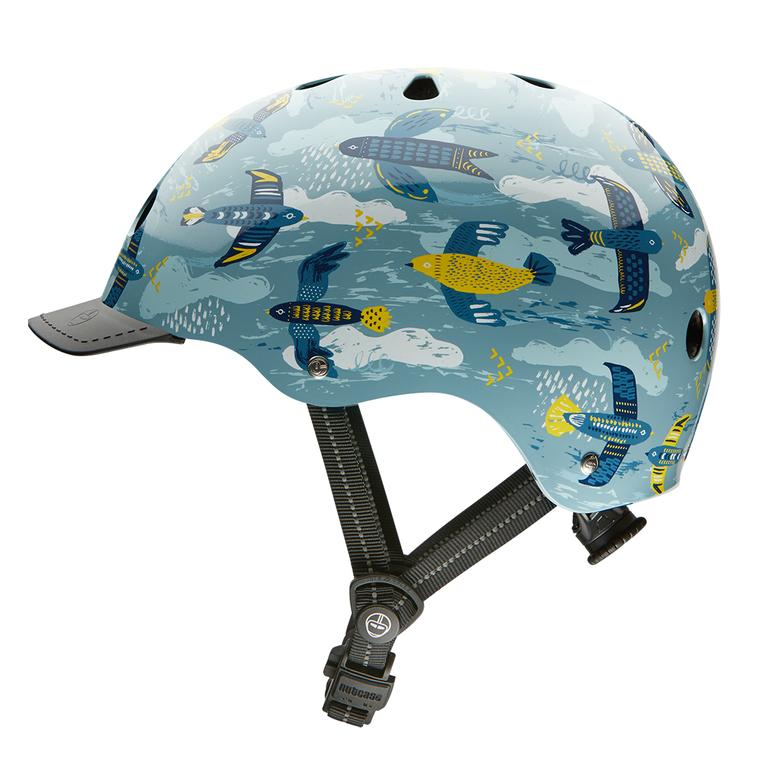helmet: (19, 43, 731, 724)
